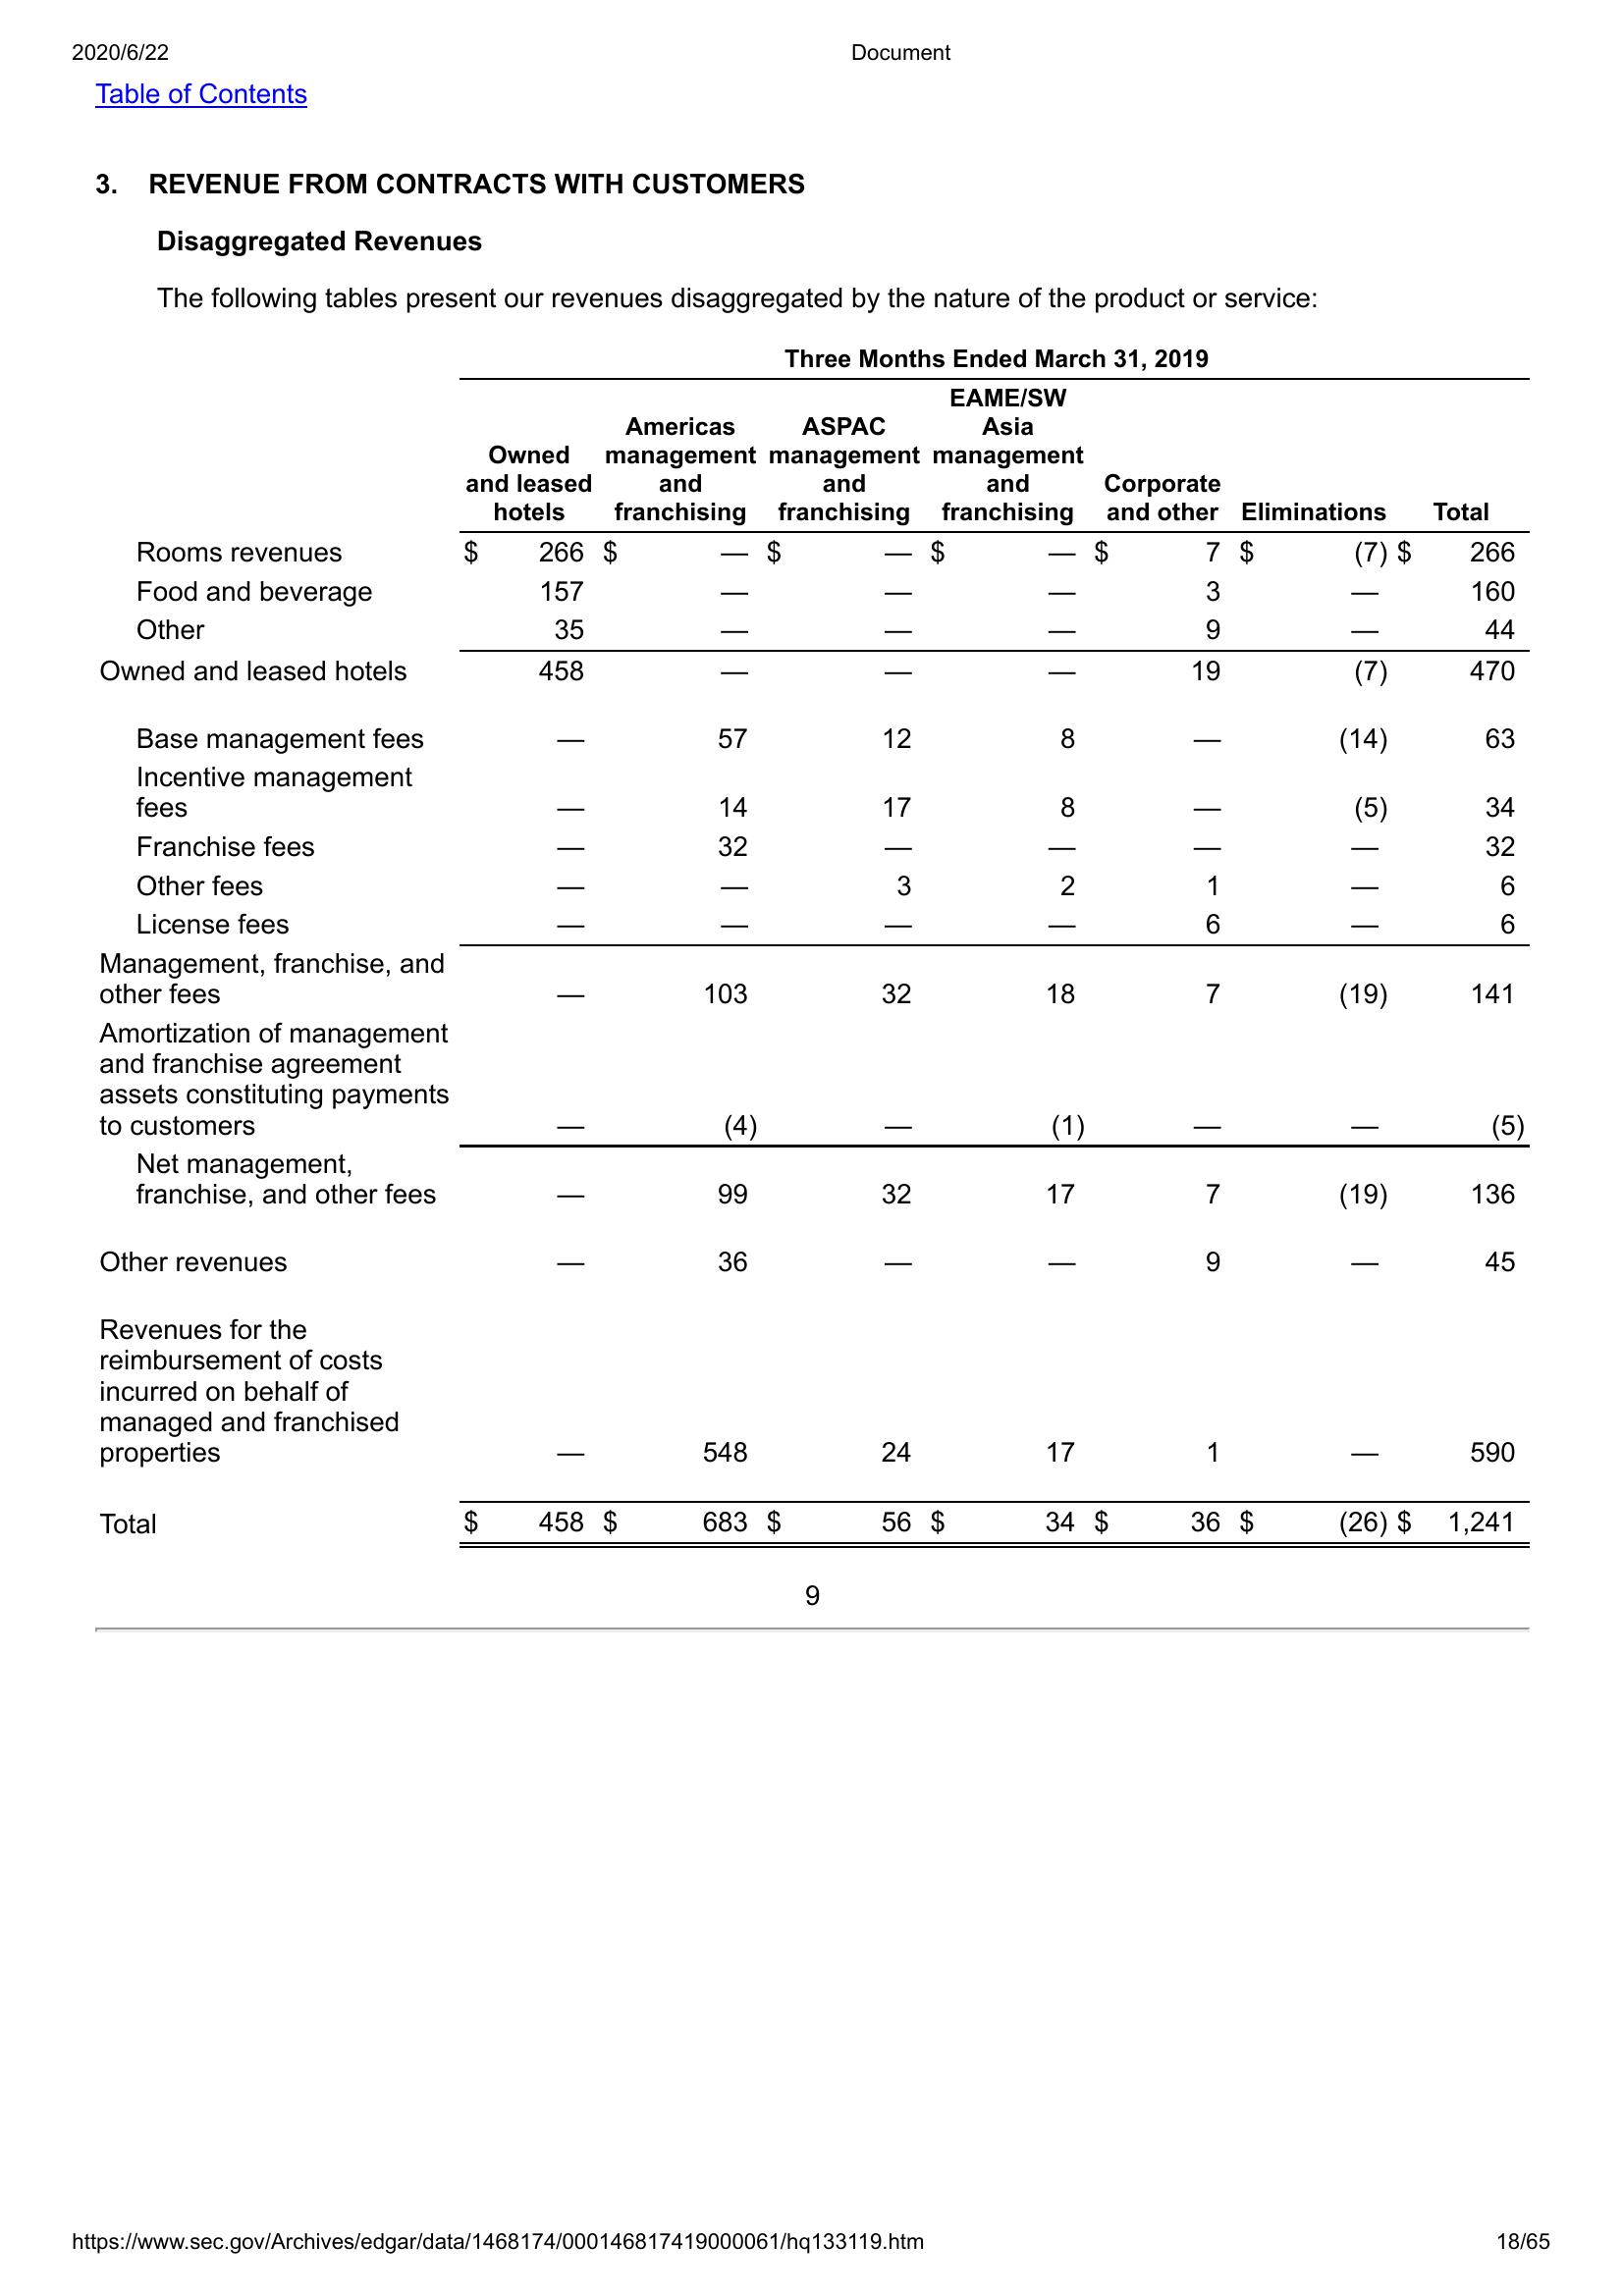table: (90, 334, 1535, 1555)
